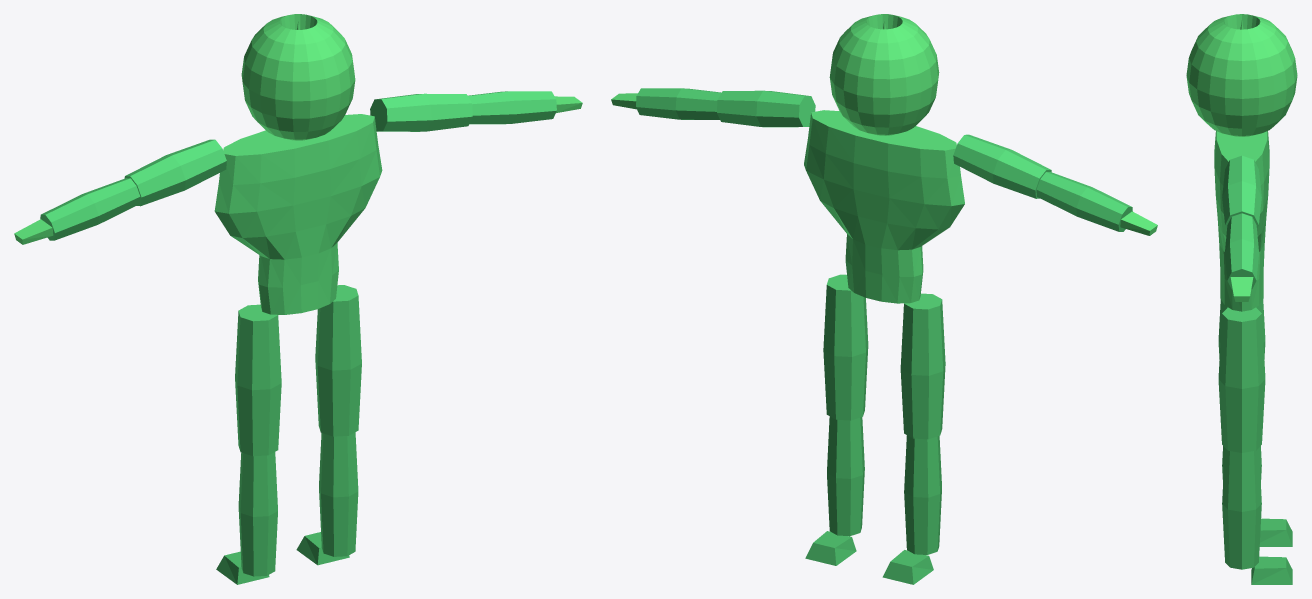
The model's file is 6215bfa6-f672-4b63-ad8b-94fae8bef939.glb.
The picture shows the model from 3 angles, left to right: view 1: azimuth 30°, elevation 25°; view 2: azimuth 150°, elevation 25°; view 3: azimuth 270°, elevation 25°; orthographic projection. The views are drawn at different scales.
Parts seen in each view (by area): view 1: Torso, Head, Leg_L_Upper, Leg_R_Upper, Leg_L_Lower, Leg_R_Lower, Arm_L_Upper, Arm_R_Upper, Arm_L_Lower, Arm_R_Lower, Foot_R, Foot_L; view 2: Torso, Head, Leg_L_Upper, Leg_R_Upper, Leg_R_Lower, Leg_L_Lower, Arm_L_Upper, Arm_R_Upper, Arm_L_Lower, Arm_R_Lower, Foot_R, Foot_L; view 3: Head, Leg_R_Upper, Leg_R_Lower, Torso, Arm_R_Upper, Arm_R_Lower, Foot_R, Foot_L, Hand_R, Leg_L_Upper.
Part boxes in pixels (x1,y1,x2,y2): Torso: (214,114,382,314); Head: (241,14,355,140); Leg_L_Upper: (235,304,281,456); Leg_R_Upper: (315,285,361,436); Leg_L_Lower: (238,452,277,576); Leg_R_Lower: (319,432,358,556); Arm_L_Upper: (124,139,226,206); Arm_R_Upper: (370,93,472,131); Arm_L_Lower: (40,178,140,240); Arm_R_Lower: (468,91,556,124); Foot_R: (296,532,349,565); Foot_L: (216,551,269,584); Torso: (804,110,964,303); Head: (829,14,939,135); Leg_L_Upper: (900,293,945,439); Leg_R_Upper: (823,274,868,420); Leg_R_Lower: (827,416,864,536); Leg_L_Lower: (904,435,941,554); Arm_L_Upper: (953,134,1051,198); Arm_R_Upper: (717,90,815,127); Arm_L_Lower: (1036,172,1132,231); Arm_R_Lower: (636,88,721,119); Foot_R: (805,531,856,565); Foot_L: (882,550,933,584); Head: (1186,14,1297,136); Leg_R_Upper: (1218,307,1265,452); Leg_R_Lower: (1222,448,1261,569); Torso: (1214,131,1269,311); Arm_R_Upper: (1222,155,1261,228); Arm_R_Lower: (1225,213,1258,289); Foot_R: (1251,556,1292,584); Foot_L: (1259,518,1292,546); Hand_R: (1230,277,1253,301); Leg_L_Upper: (1218,299,1265,359).
Size of the model in its own units: 1.56 by 1.48 by 0.2765.
